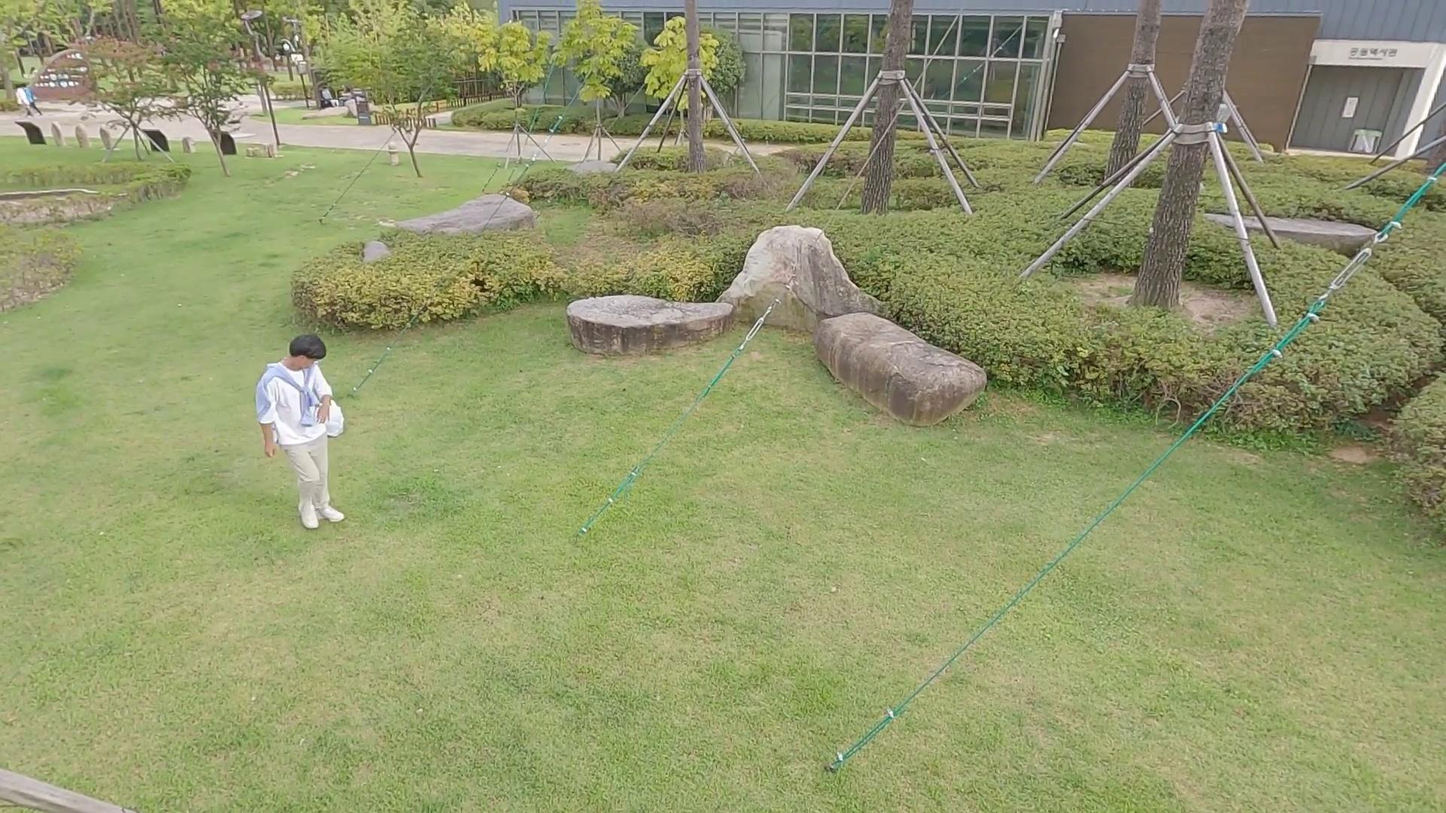person: (252, 332, 358, 535), (5, 75, 33, 119), (18, 74, 43, 118)
trash: (309, 398, 348, 439)
